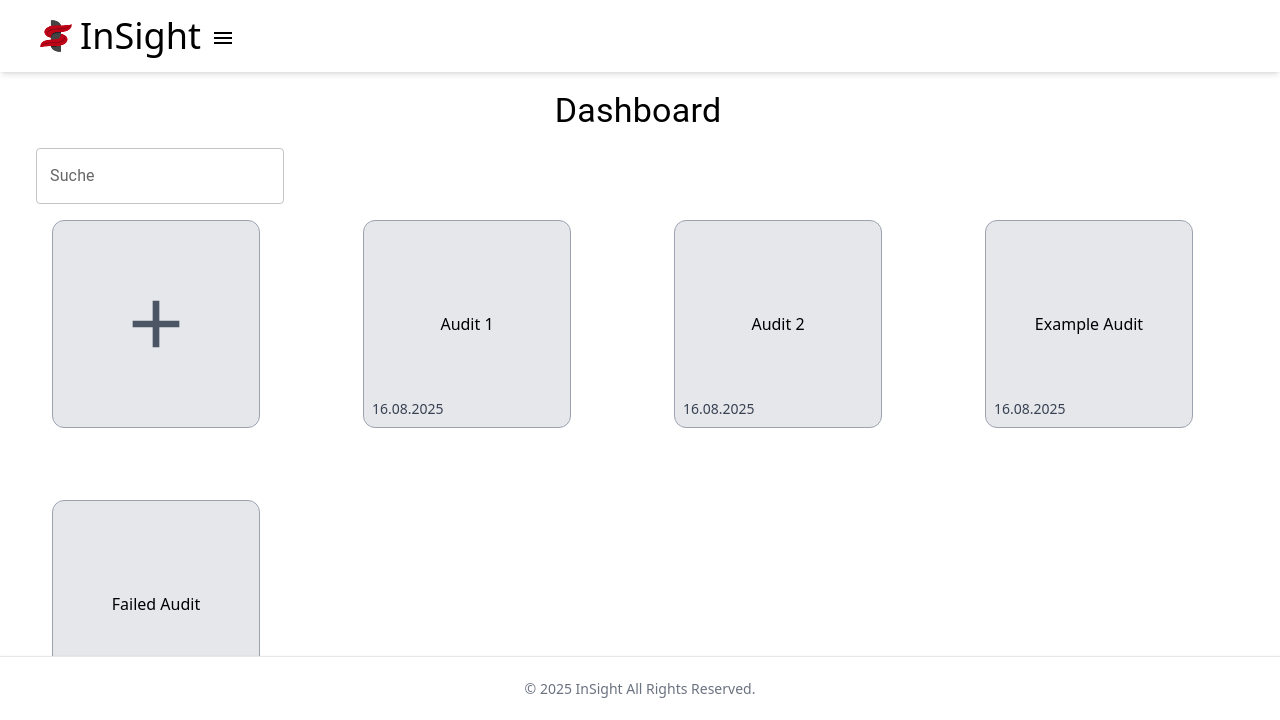
Scenario: Dashboard Navigation Tests › Backend is available › Search field exists and works correctly
Type "Example Audit" into the element with test id "dashboard-search-field" at (160, 176), box left=36, top=148, right=284, bottom=204
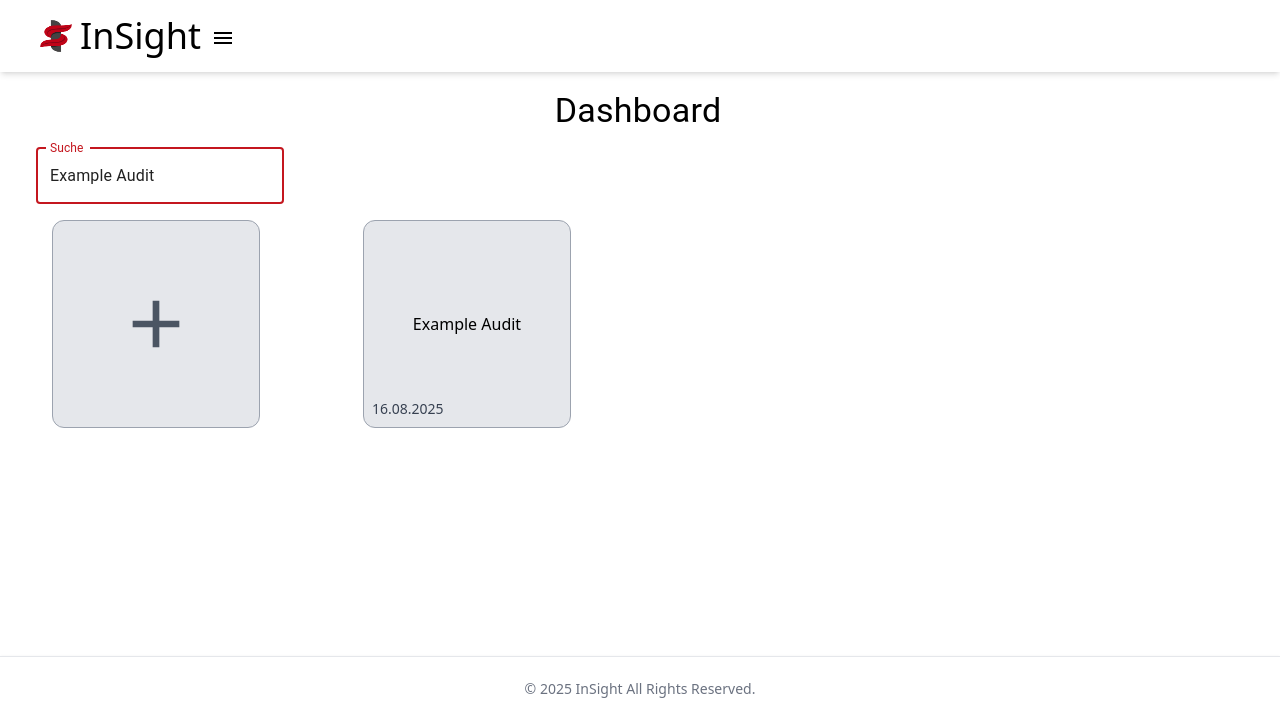
Expected: the text with test id "data-buttons" reads "Example Audit", left=413, top=313, right=521, bottom=335
Expected: the number of links with test id "data-buttons" is 1, left=363, top=220, right=571, bottom=428
